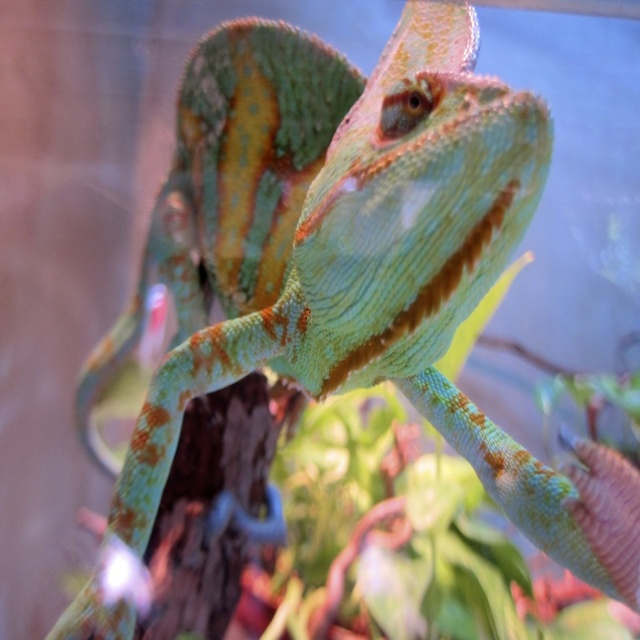Lizard: (81, 12, 579, 636)
